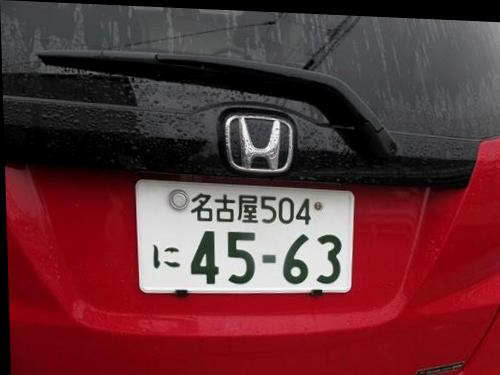License_Plate: (131, 174, 362, 307)
